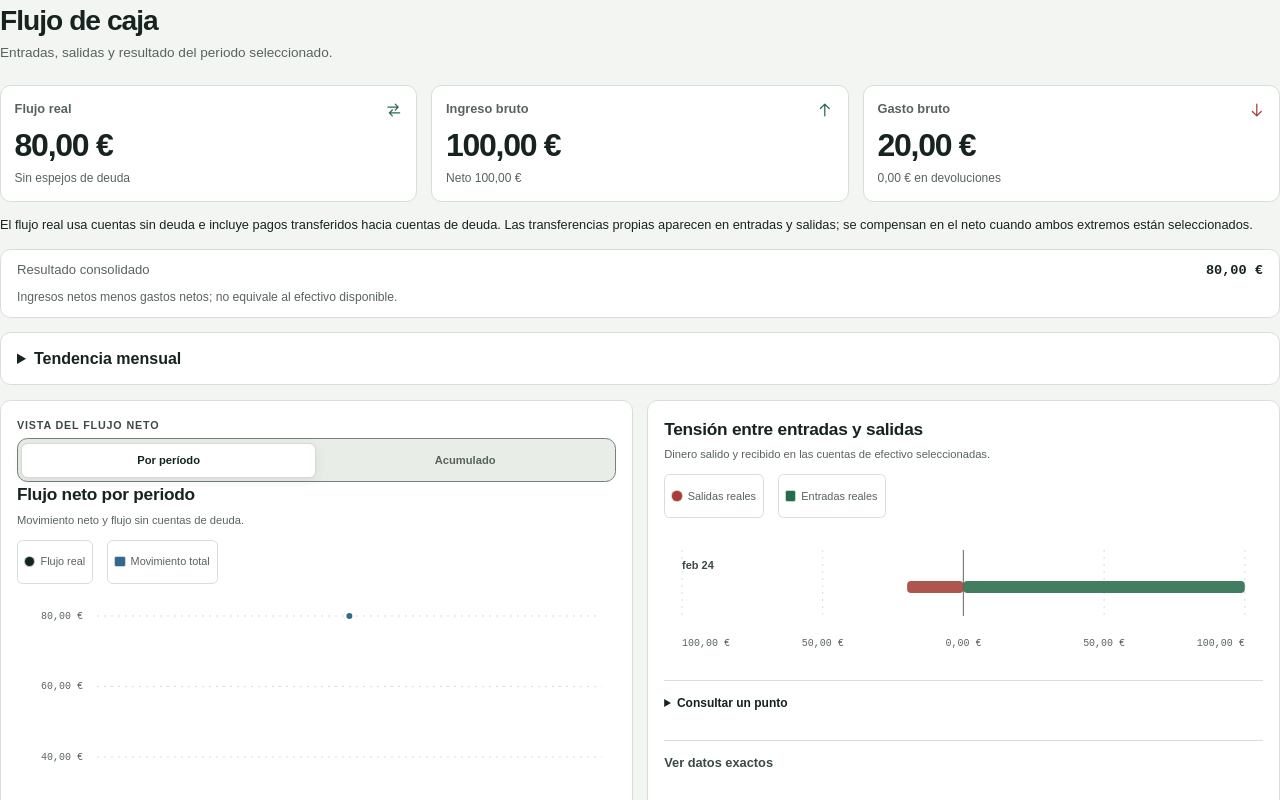
Scenario: CashFlowPageView › keeps monthly savings available with legacy UNRECONCILED metadata
Click the heading "Tendencia mensual" at (108, 358), box [34,350,181,367]
(page scrolled)
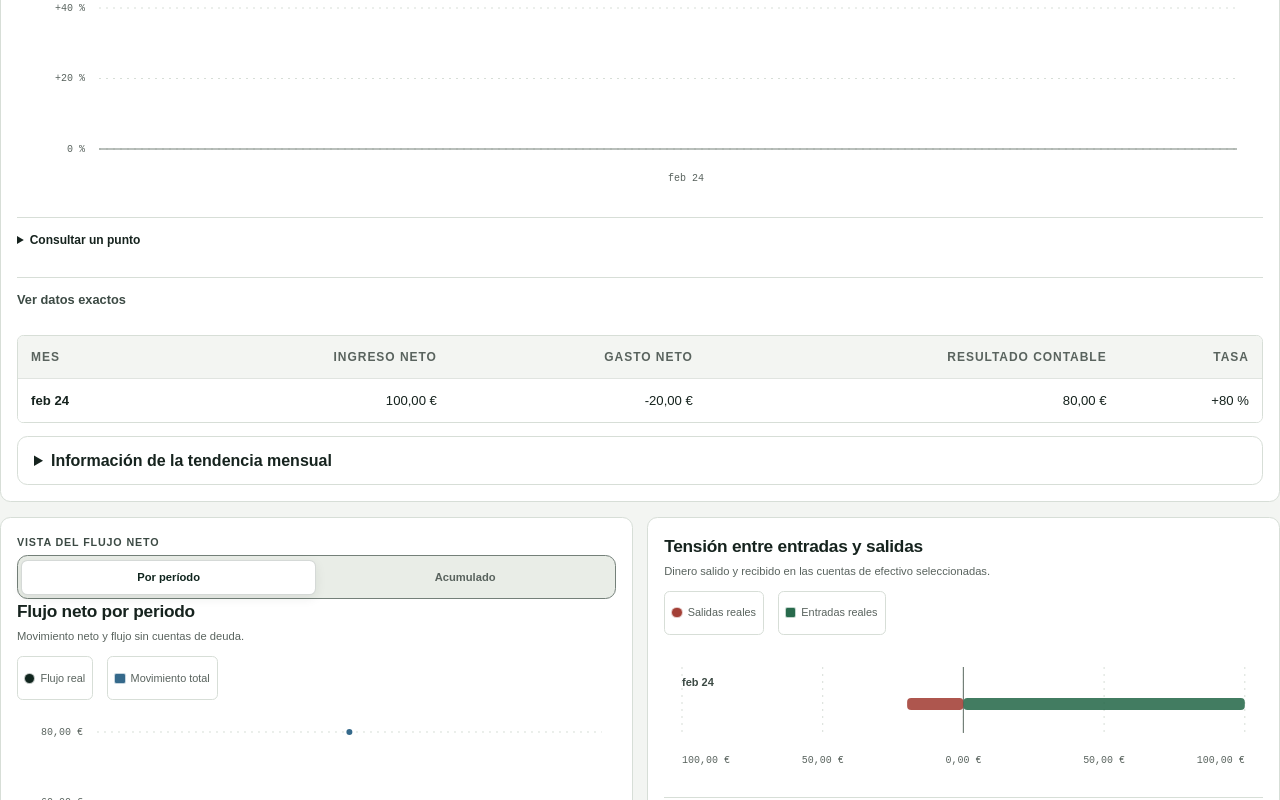
Check: the text "+80 %" is shown, box [1120,379,1262,422]
Check: the text "100,00 €" is shown, box [161,379,450,422]
Check: the text "-20,00 €" is shown, box [450,379,706,422]
